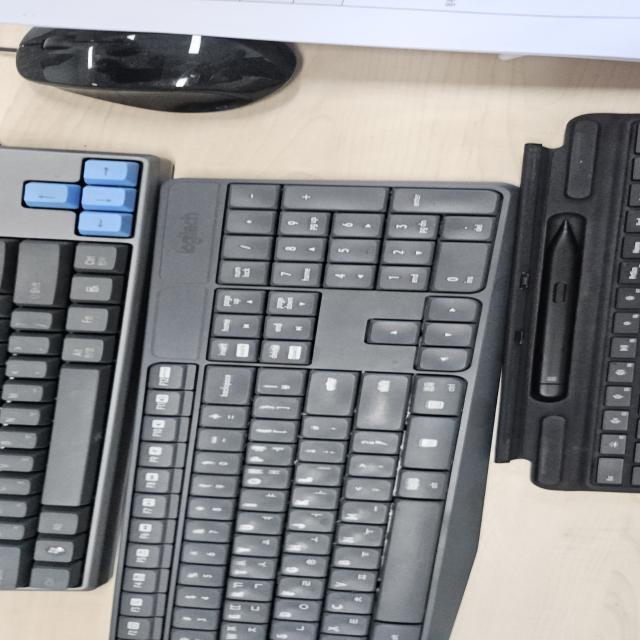Keyboard: (3, 112, 636, 638)
Mouse: (13, 25, 305, 114)
